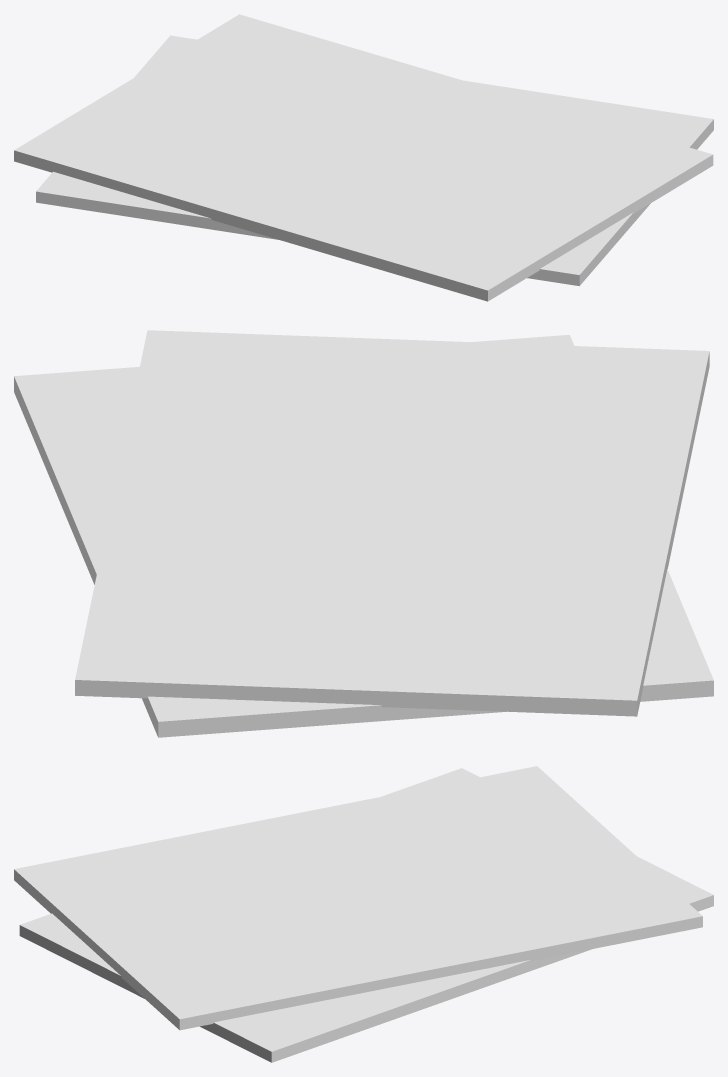
File: Papeis 2.FBX
3 views of the same model, one above another, from view 1: azimuth 30°, elevation 25°; view 2: azimuth 150°, elevation 25°; view 3: azimuth 270°, elevation 25° (orthographic). The views are drawn at different scales.
Visible parts, largest first — view 1: Box019, Box024; view 2: Box019, Box024; view 3: Box019, Box024.
Boxes of the visible parts, x1=… form: Box019: x1=14, y1=14, x2=713, y2=301; Box024: x1=36, y1=35, x2=713, y2=286; Box019: x1=75, y1=330, x2=709, y2=716; Box024: x1=14, y1=334, x2=713, y2=737; Box019: x1=14, y1=766, x2=702, y2=1030; Box024: x1=19, y1=768, x2=713, y2=1062.
Bounding box in the file's own units: 225 × 7.66 × 234.
